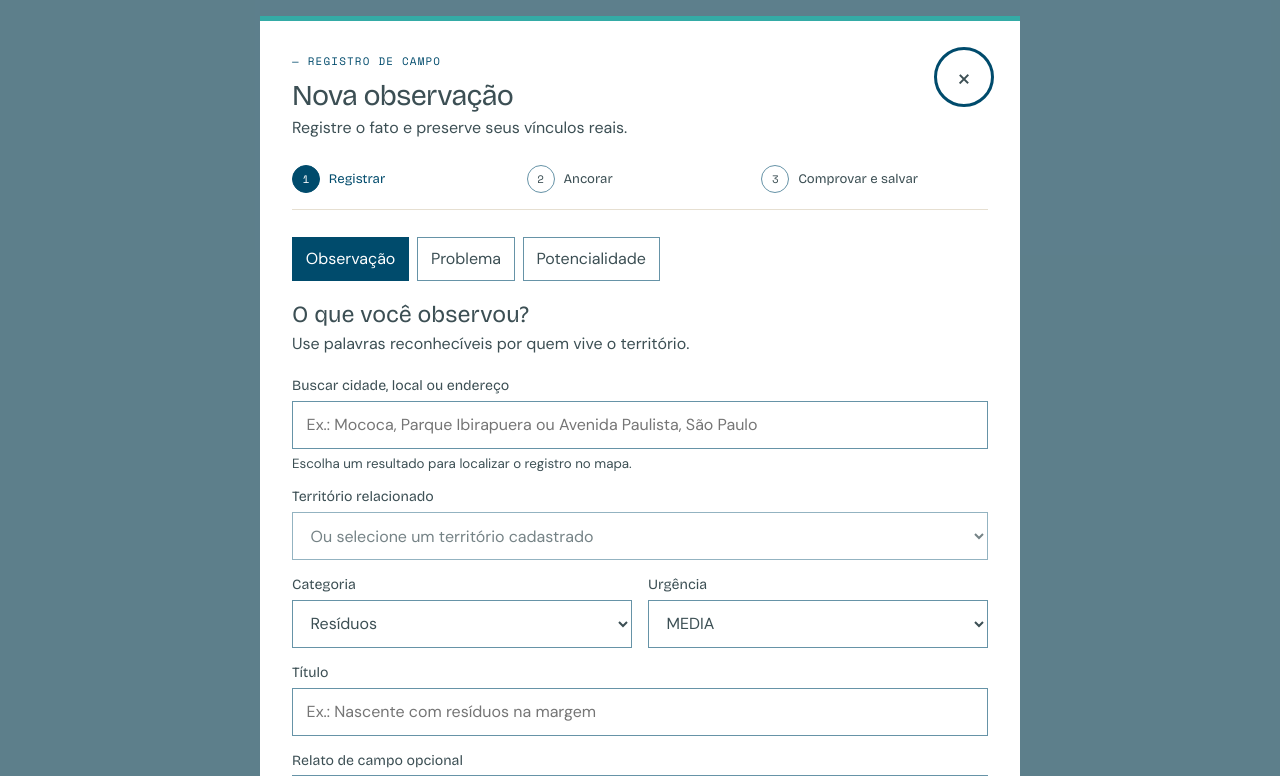
it: field observation capture › shows a lookup failure instead of accepting a place without coordinates
Replace the text in the dropdown labelled "Buscar cidade, local ou endereço" with "Mococa" at {"x": 640, "y": 425}, box [292,401,988,449]
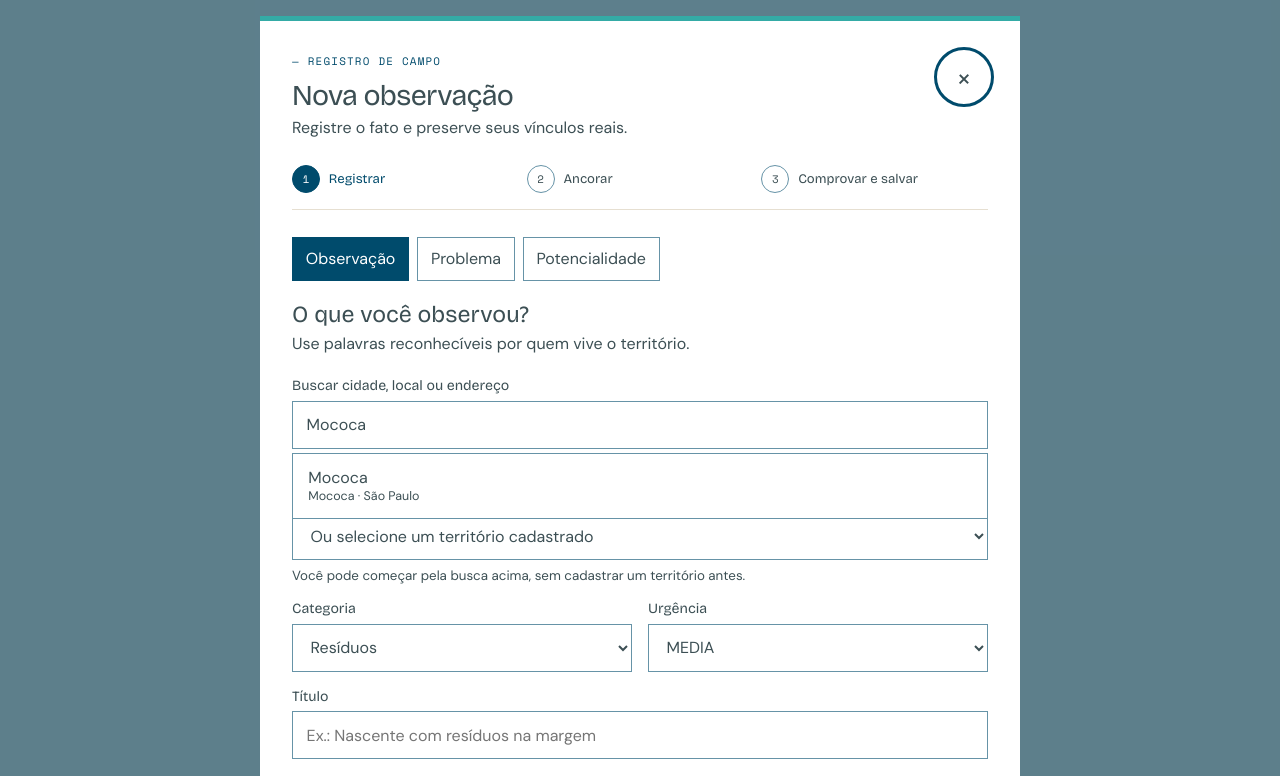
Press the mouse on the option "Mococa Mococa · São Paulo" at {"x": 364, "y": 486}, box [308,467,419,504]
(page scrolled)
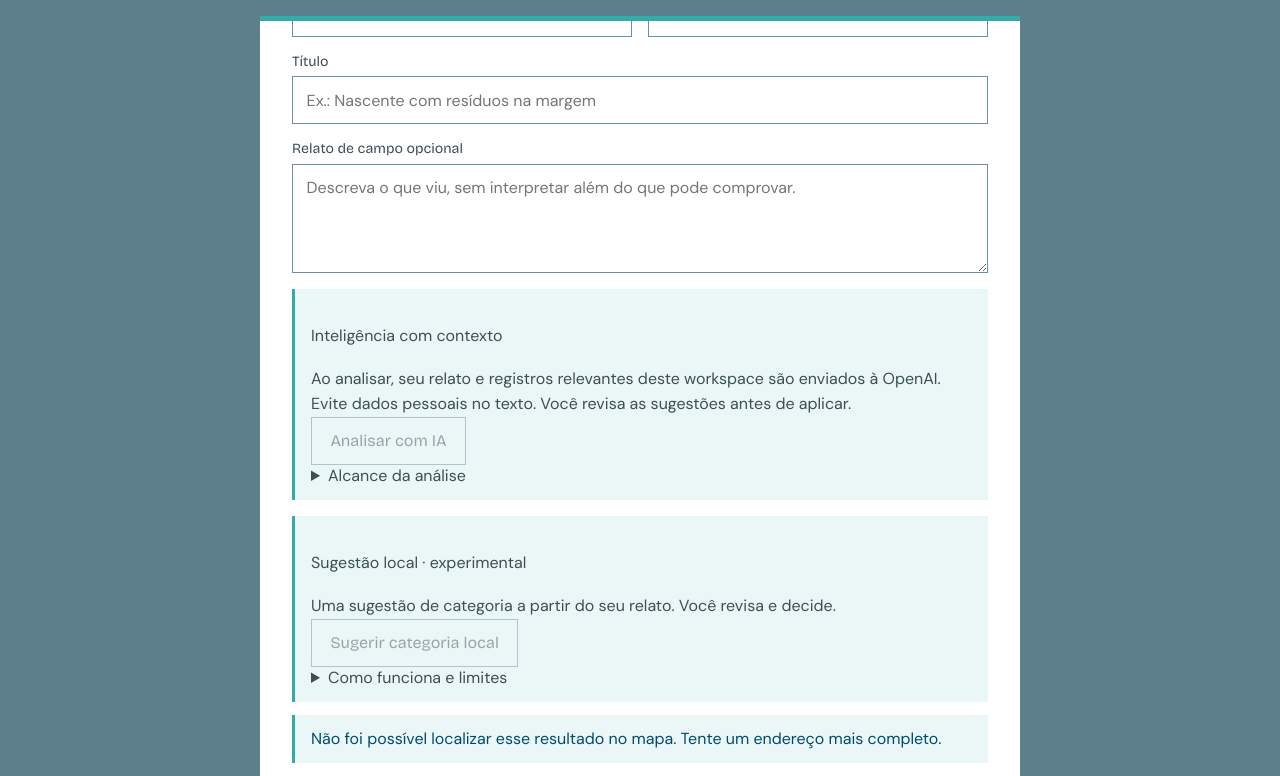
Now the message shows "Não foi possível localizar esse resultado no mapa", box [311,728,942,749]
